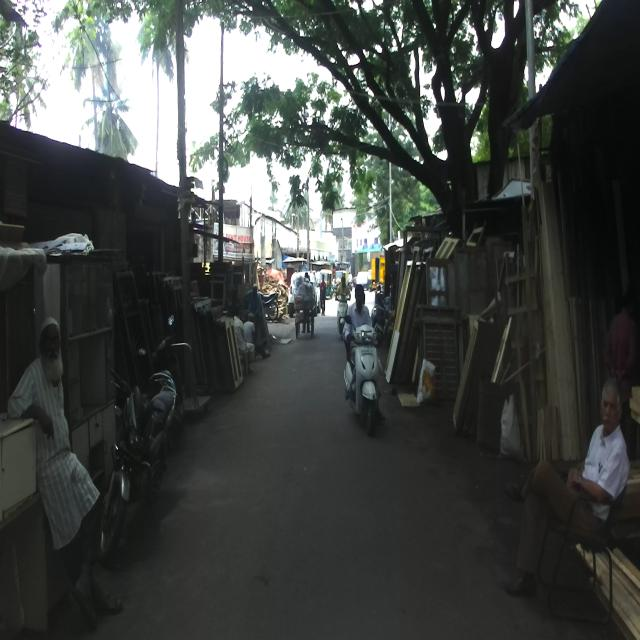motorcycle ahead at: (106, 344, 174, 552), (340, 314, 386, 439)
person ahead at: (12, 309, 118, 631), (506, 379, 635, 607)
